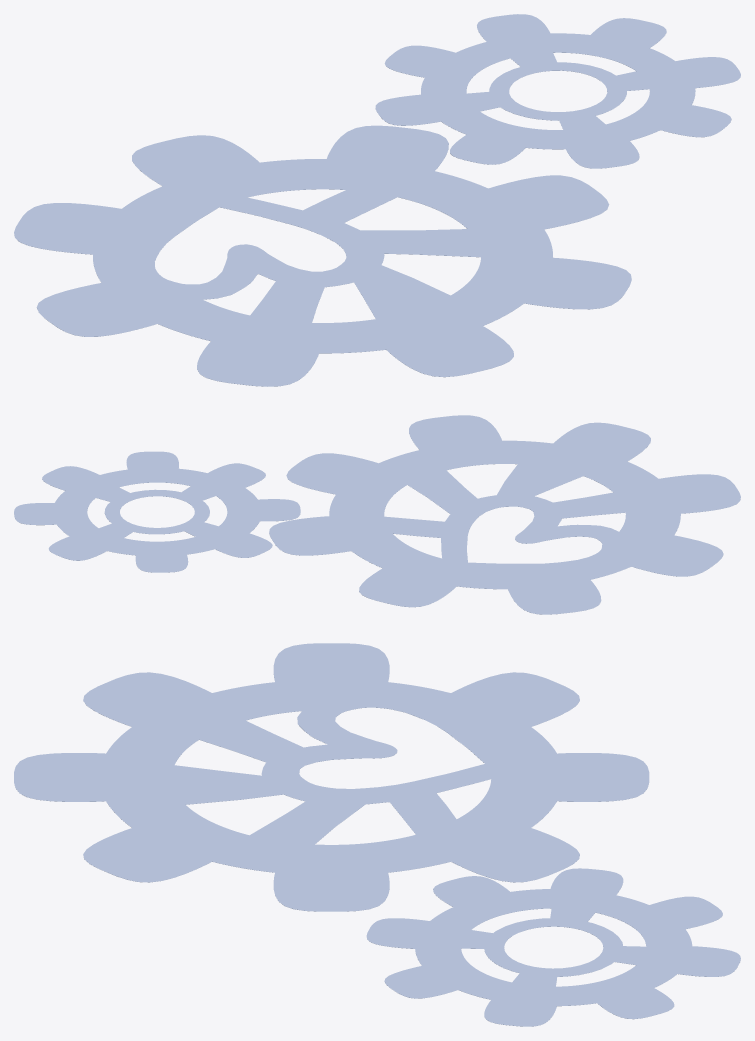
File: Meru.fbx
3 renders of one model, top to bottom at view 1: azimuth 30°, elevation 25°; view 2: azimuth 150°, elevation 25°; view 3: azimuth 270°, elevation 25°, orthographic. The views are drawn at different scales.
Parts seen in each view (by area): view 1: 円.004; view 2: 円.004; view 3: 円.004.
Boxes of the visible parts, x1,y1,x2,y2 form: 円.004: [14, 14, 740, 386]; 円.004: [14, 415, 740, 614]; 円.004: [14, 643, 740, 1026].
Size of the model in its own units: 65.75 by 0.01 by 52.67.
